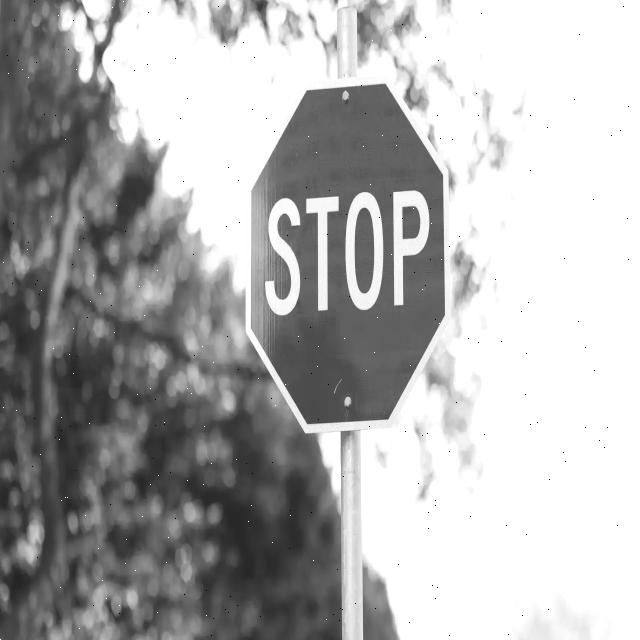stop: (244, 76, 452, 437)
